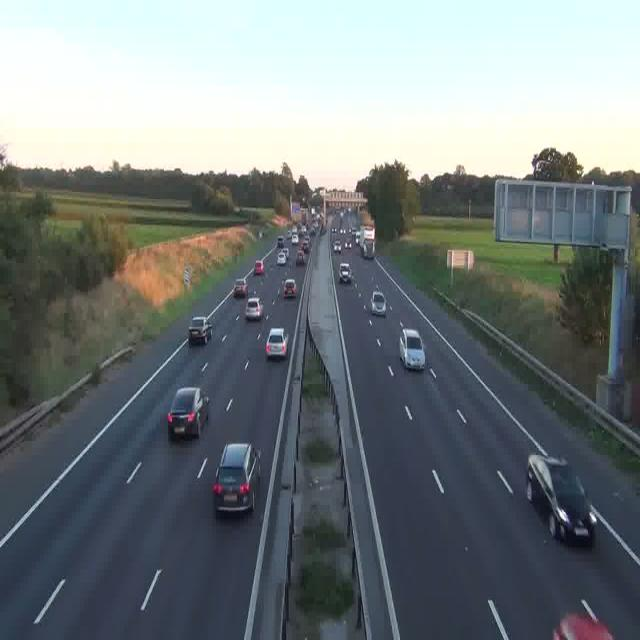car: (526, 454, 596, 547), (214, 444, 258, 514), (168, 387, 208, 438), (553, 613, 615, 640), (399, 328, 425, 369), (265, 328, 289, 359), (188, 316, 212, 345), (370, 292, 388, 316), (244, 297, 262, 320), (284, 277, 298, 298), (338, 265, 352, 284), (234, 280, 248, 298), (254, 260, 266, 274), (296, 251, 306, 265), (277, 252, 286, 266), (332, 242, 340, 253), (277, 237, 285, 248)
truck: (360, 224, 374, 258)
